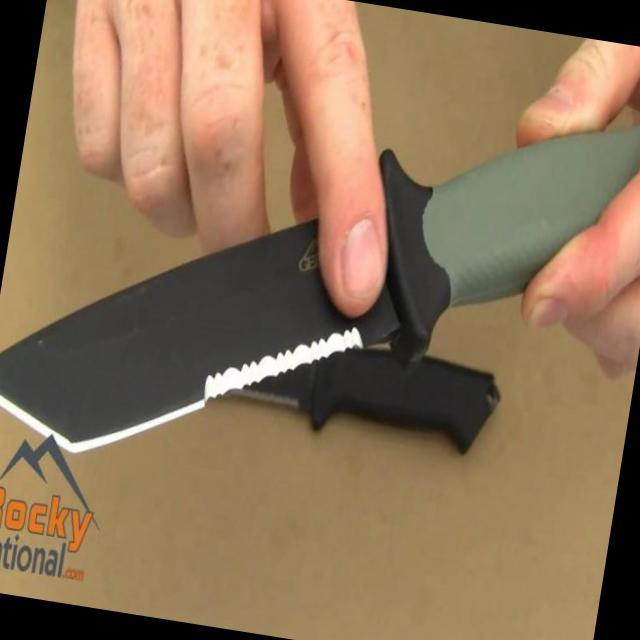Knife: (0, 7, 640, 557)
